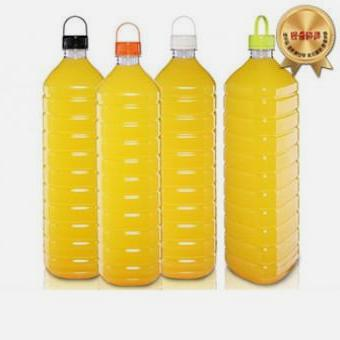bottle: (224, 14, 300, 285), (93, 22, 162, 284), (158, 16, 219, 281), (37, 16, 98, 280)
